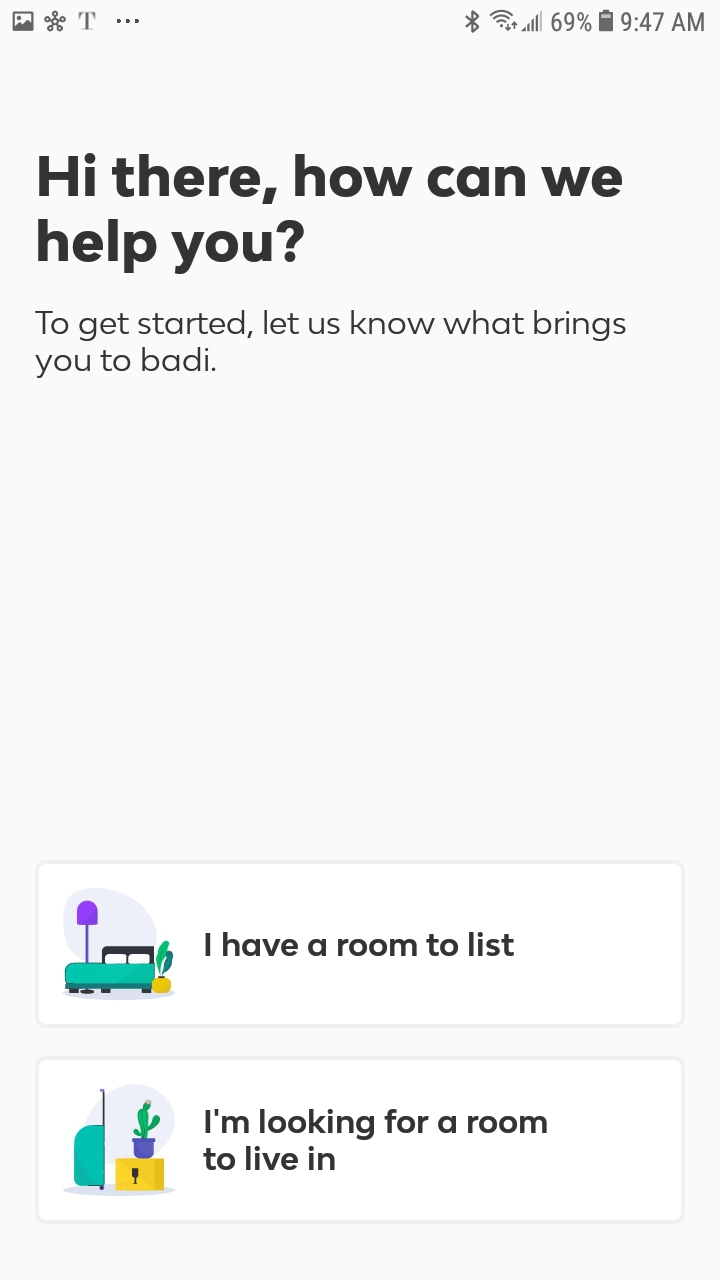Image: (63, 888, 176, 1001), (63, 1083, 176, 1195)
Text: (39, 154, 623, 275), (35, 311, 626, 379), (203, 1108, 547, 1170), (206, 932, 515, 956)
TextButton: (35, 1056, 685, 1225), (35, 859, 685, 1028)
UpperTaskBar: (1, 1, 720, 34)
